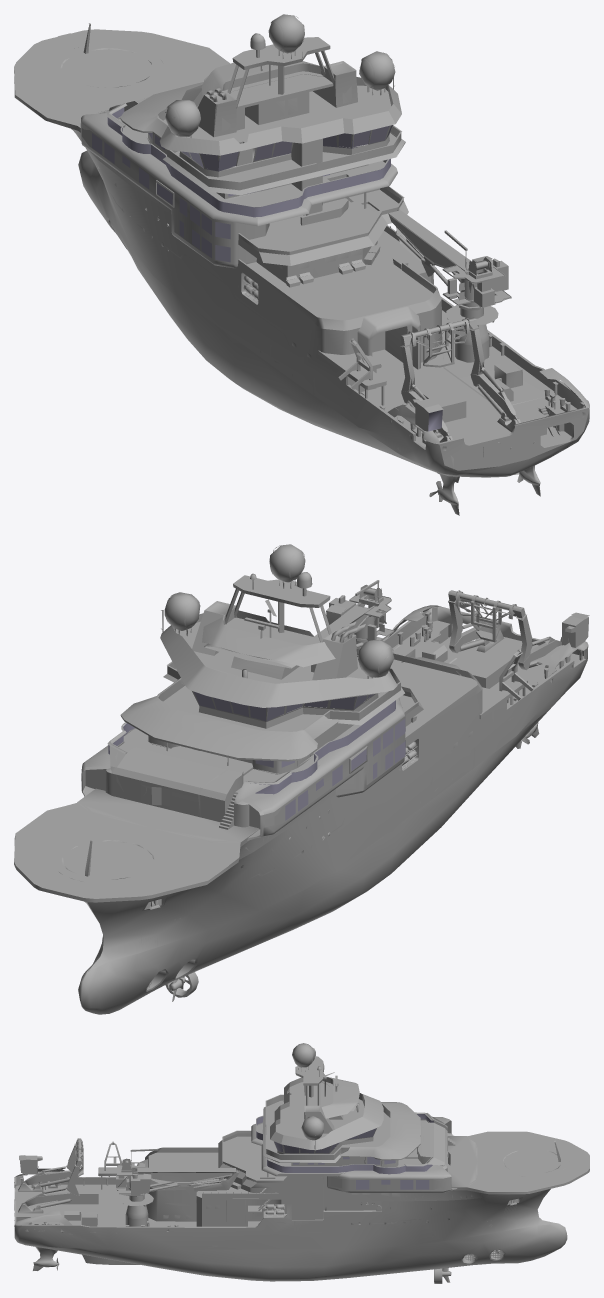
The model's file is Ocean_Xplorer_No_Antennas.fbx.
3 renders of one model, top to bottom at view 1: azimuth 30°, elevation 25°; view 2: azimuth 150°, elevation 25°; view 3: azimuth 270°, elevation 25°, orthographic. The views are drawn at different scales.
Parts seen in each view (by area): view 1: ocean_xplorer; view 2: ocean_xplorer; view 3: ocean_xplorer.
Boxes of the visible parts, left/top/right/bottom form: ocean_xplorer: left=14, top=14, right=589, bottom=515; ocean_xplorer: left=14, top=544, right=589, bottom=1014; ocean_xplorer: left=14, top=1043, right=589, bottom=1283.
Size of the model in its own units: 2597 by 3955 by 8678.
